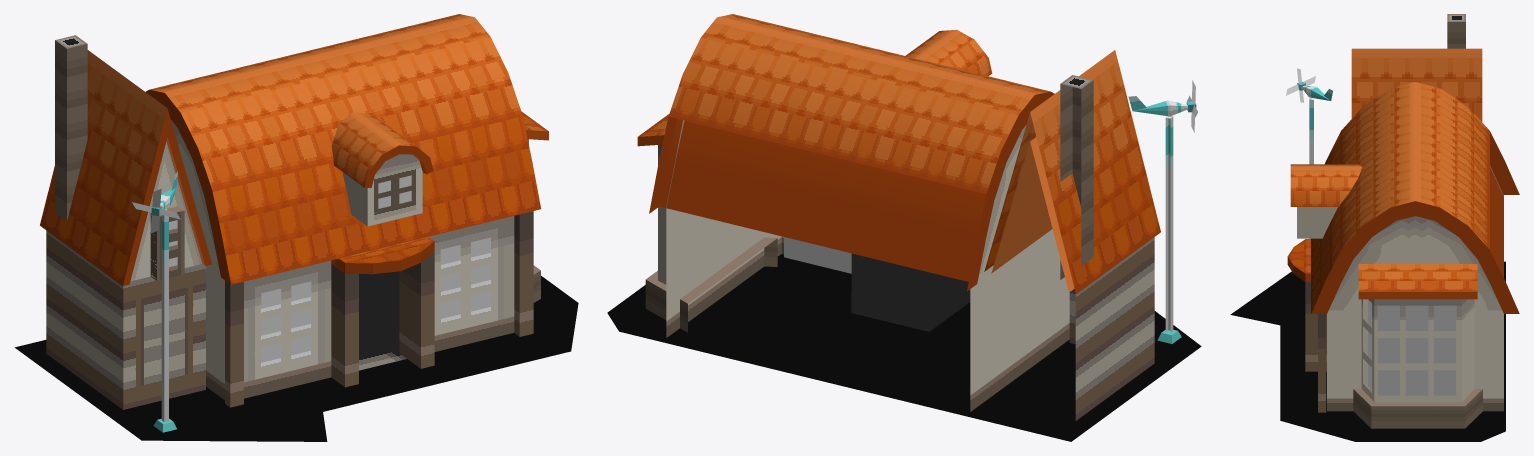
Rendered from Juniper Pokemon Lab.obj.
3 renders of one model, left to right at view 1: azimuth 30°, elevation 25°; view 2: azimuth 150°, elevation 25°; view 3: azimuth 270°, elevation 25°, orthographic. The views are drawn at different scales.
Visible parts, largest first — view 1: polygon5, polygon3, polygon2, polygon4, polygon0, polygon1, polygon7; view 2: polygon5, polygon2, polygon4, polygon3, polygon1, polygon0, polygon6; view 3: polygon5, polygon4, polygon2, polygon0, polygon3, polygon1, polygon7, polygon6.
Part boxes in pixels (x1,y1,x2,y2): polygon5: [40, 14, 548, 285]; polygon3: [46, 154, 533, 409]; polygon2: [14, 276, 578, 441]; polygon4: [55, 35, 540, 399]; polygon0: [169, 175, 490, 362]; polygon1: [153, 209, 176, 432]; polygon7: [132, 188, 180, 233]; polygon5: [637, 14, 1160, 293]; polygon2: [607, 254, 1201, 441]; polygon4: [645, 75, 1093, 411]; polygon3: [781, 236, 1154, 420]; polygon1: [1157, 116, 1181, 343]; polygon0: [784, 237, 851, 273]; polygon6: [1128, 96, 1187, 116]; polygon5: [1287, 48, 1519, 313]; polygon4: [1327, 14, 1503, 428]; polygon2: [1230, 261, 1505, 441]; polygon0: [1368, 299, 1455, 395]; polygon3: [1297, 207, 1337, 412]; polygon1: [1309, 98, 1313, 238]; polygon7: [1286, 68, 1315, 102]; polygon6: [1302, 85, 1332, 100].
Bounding box in the file's own units: 137 × 89.3 × 92.41.
